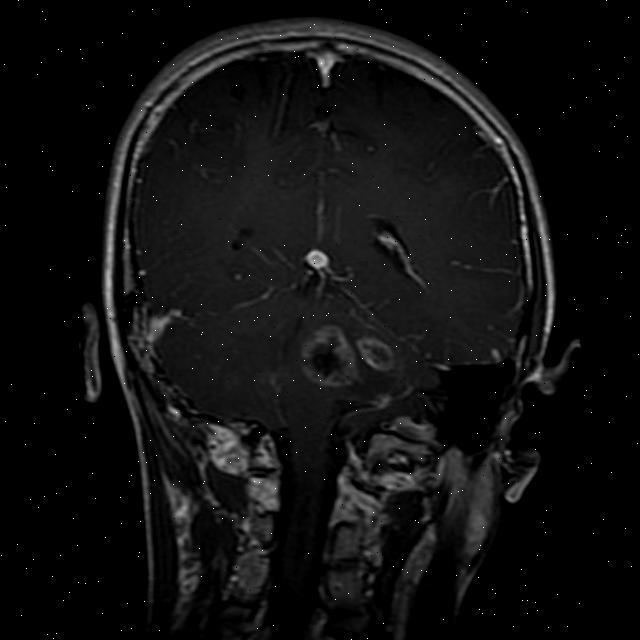Glioma: (297, 320, 361, 390), (355, 332, 396, 375)
